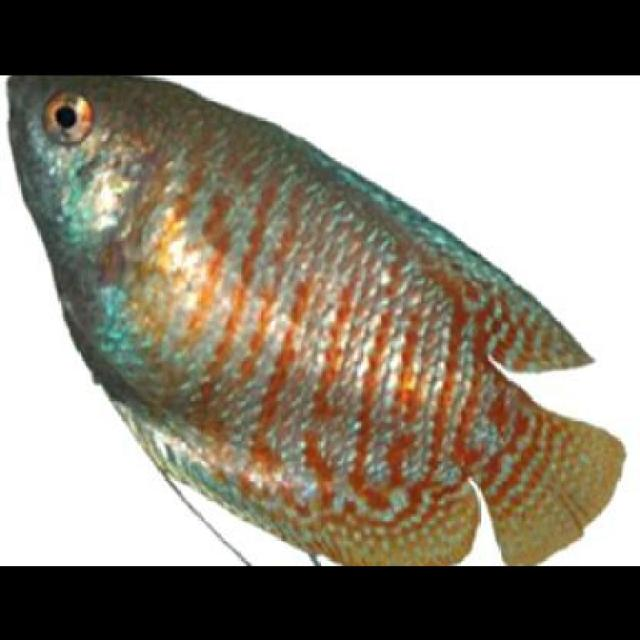Gourami: (0, 72, 629, 566)
